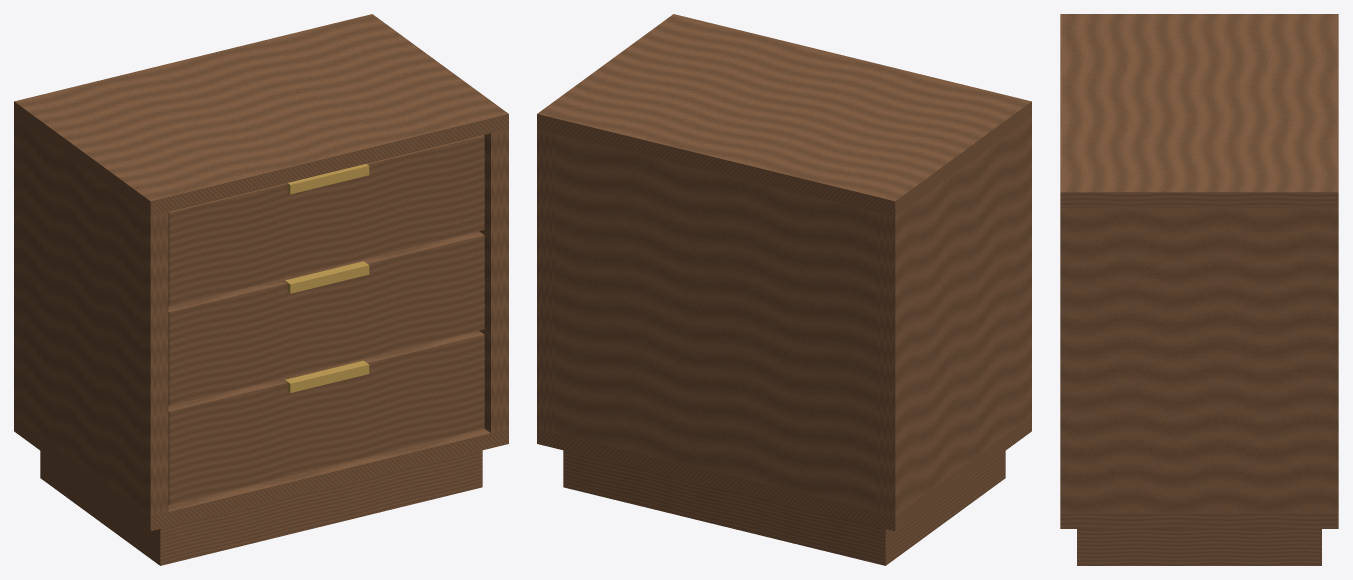
3 views of the same model, side by side, from view 1: azimuth 30°, elevation 25°; view 2: azimuth 150°, elevation 25°; view 3: azimuth 270°, elevation 25° (orthographic). The views are drawn at different scales.
Parts seen in each view (by area): view 1: 3 top_panel, 4 left_panel, 7 bottom_drawer, 8 middle_drawer, 9 top_drawer, 1 base_plinth, 2 bottom_panel, 5 right_panel, 11 middle_handle, 10 bottom_handle, 12 top_handle; view 2: 6 back_panel, 3 top_panel, 4 left_panel, 1 base_plinth, 2 bottom_panel, 5 right_panel; view 3: 5 right_panel, 3 top_panel, 1 base_plinth, 2 bottom_panel.
Part boxes in pixels (x1=…): 3 top_panel: x1=14, y1=14, x2=508, y2=216; 4 left_panel: x1=14, y1=116, x2=168, y2=516; 7 bottom_drawer: x1=168, y1=330, x2=484, y2=505; 8 middle_drawer: x1=168, y1=231, x2=484, y2=405; 9 top_drawer: x1=168, y1=135, x2=484, y2=306; 1 base_plinth: x1=40, y1=450, x2=482, y2=565; 2 bottom_panel: x1=14, y1=416, x2=508, y2=531; 5 right_panel: x1=479, y1=129, x2=508, y2=433; 11 middle_handle: x1=285, y1=261, x2=369, y2=293; 10 bottom_handle: x1=285, y1=360, x2=369, y2=392; 12 top_handle: x1=287, y1=164, x2=369, y2=194; 6 back_panel: x1=555, y1=133, x2=877, y2=511; 3 top_panel: x1=537, y1=14, x2=1031, y2=216; 4 left_panel: x1=877, y1=116, x2=1031, y2=516; 1 base_plinth: x1=563, y1=450, x2=1005, y2=565; 2 bottom_panel: x1=537, y1=416, x2=1031, y2=531; 5 right_panel: x1=537, y1=129, x2=554, y2=433; 5 right_panel: x1=1060, y1=207, x2=1338, y2=513; 3 top_panel: x1=1060, y1=14, x2=1338, y2=207; 1 base_plinth: x1=1077, y1=529, x2=1321, y2=565; 2 bottom_panel: x1=1060, y1=513, x2=1338, y2=528.
Size of the model in its own units: 1 by 1 by 0.66.
Materials: 2 (1 with a texture image).
